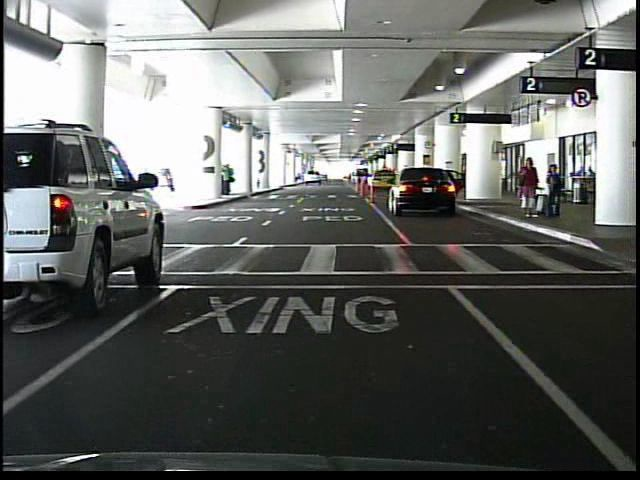person: (513, 156, 538, 216), (543, 164, 564, 217), (221, 163, 235, 197), (547, 165, 558, 200)
